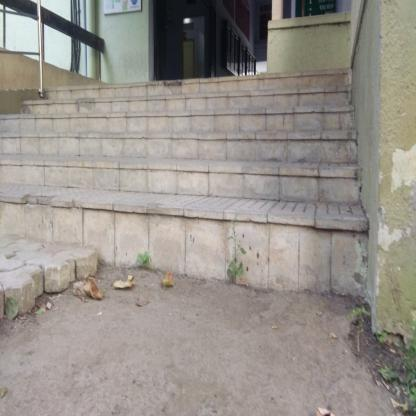stairs: (102, 84, 329, 284)
